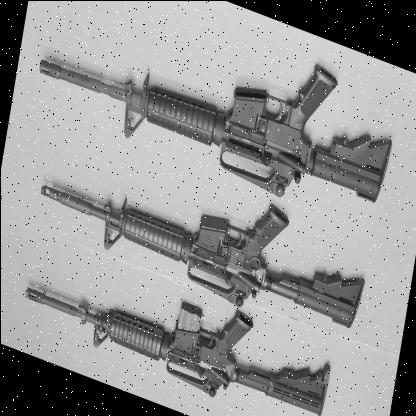rifle: (0, 60, 350, 334), (0, 214, 320, 416), (0, 330, 283, 416)
